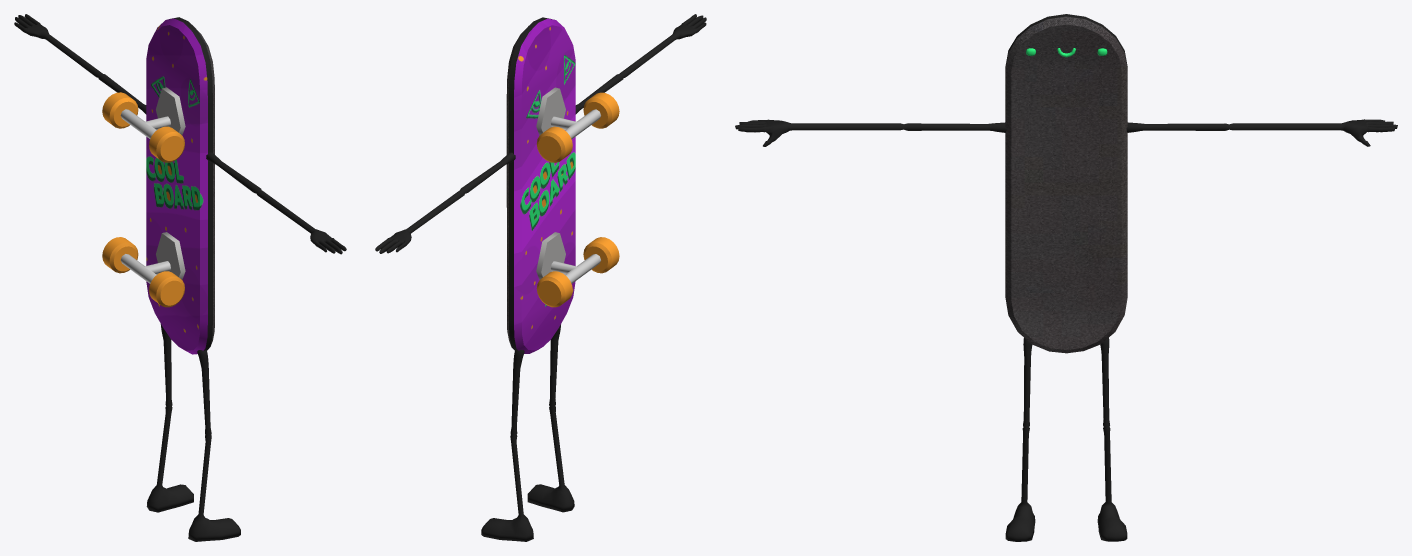
File: tposing_avatars_skateboard_character.glb
3 views of the same model, side by side, from view 1: azimuth 30°, elevation 25°; view 2: azimuth 150°, elevation 25°; view 3: azimuth 270°, elevation 25° (orthographic). The views are drawn at different scales.
Parts seen in each view (by area): view 1: _100Avatars_170_CoolBoard; view 2: _100Avatars_170_CoolBoard; view 3: _100Avatars_170_CoolBoard.
Boxes of the visible parts, x1,y1,x2,y2 form: _100Avatars_170_CoolBoard: (14, 14, 346, 541); _100Avatars_170_CoolBoard: (375, 14, 706, 541); _100Avatars_170_CoolBoard: (735, 14, 1397, 541).
Bounding box in the file's own units: 0.8139 × 4.54 × 5.33.
1 material, 1 textured.
